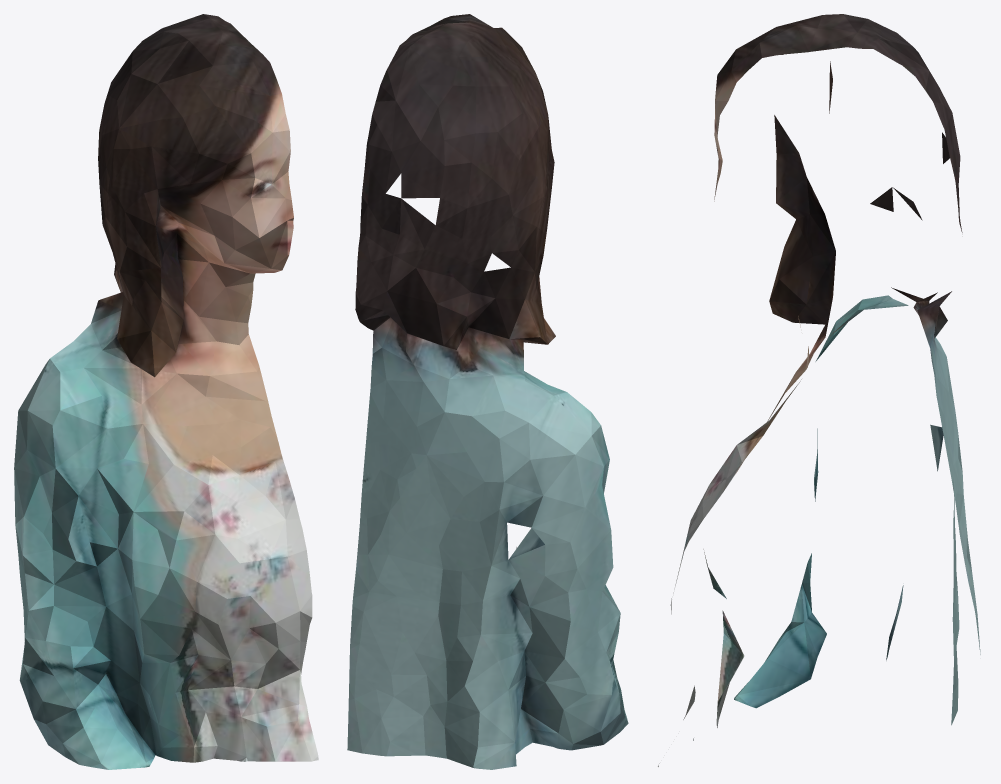
3 renders of one model, left to right at view 1: azimuth 30°, elevation 25°; view 2: azimuth 150°, elevation 25°; view 3: azimuth 270°, elevation 25°, orthographic. The views are drawn at different scales.
Size of the model in its own units: 209 by 659 by 269.
1 material, 1 textured.
